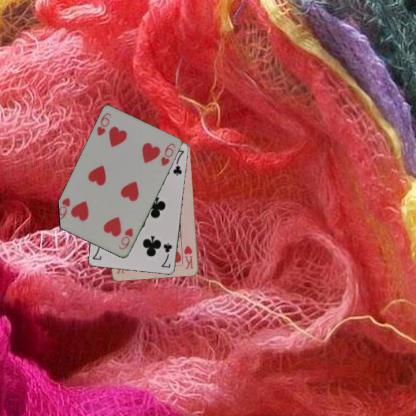6h: (94, 110, 113, 137), (116, 226, 135, 252)
7c: (159, 240, 173, 269)
Kh: (181, 243, 195, 270)
